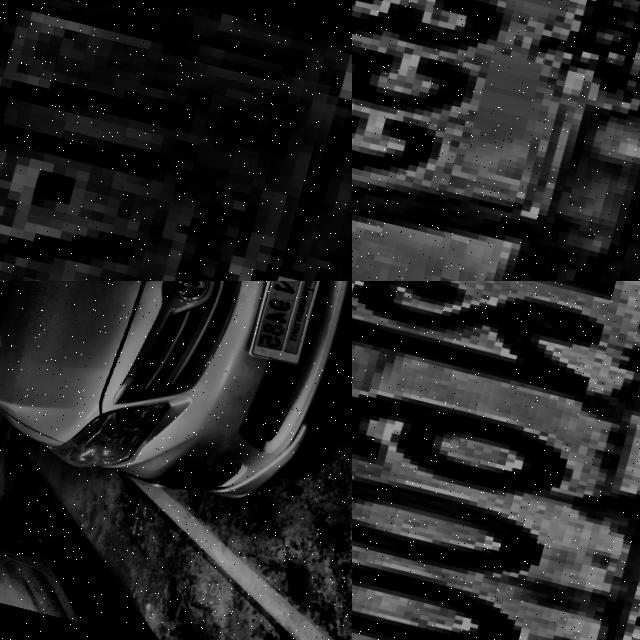license-plate: (352, 281, 640, 640), (0, 0, 352, 281), (352, 0, 640, 281), (246, 281, 327, 369)
